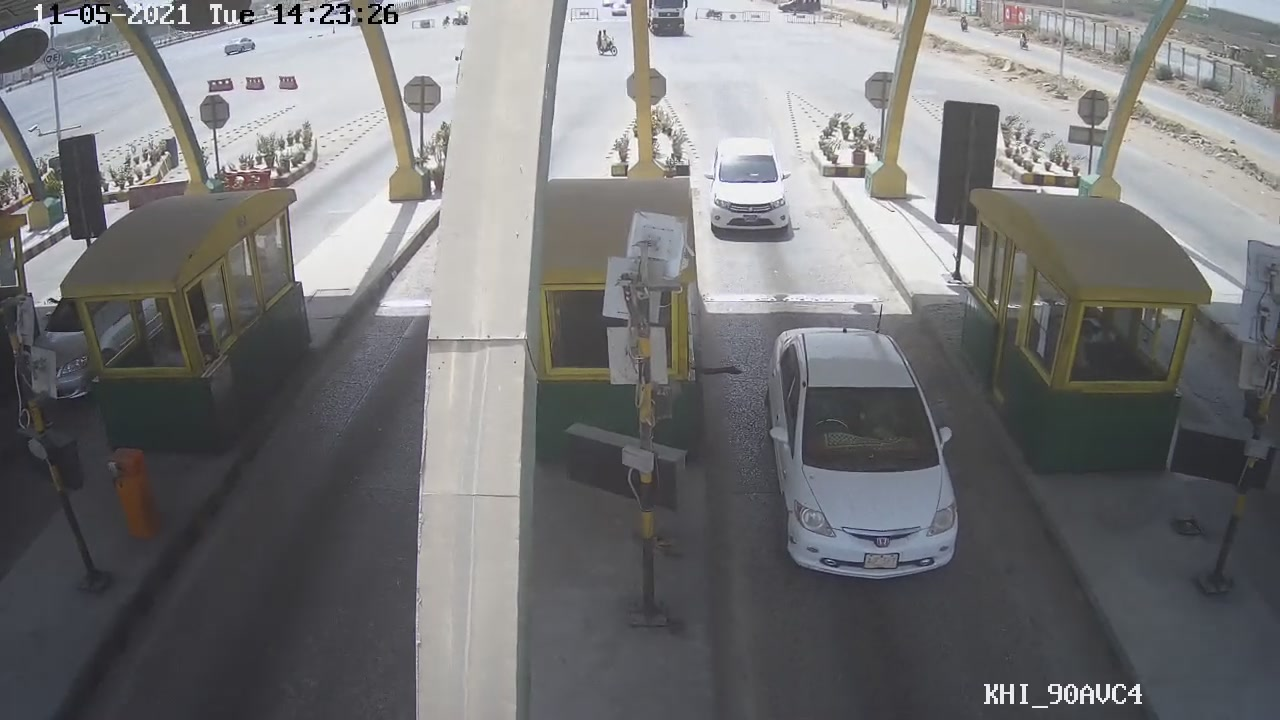F1: (765, 324, 960, 582), (704, 138, 799, 245)
